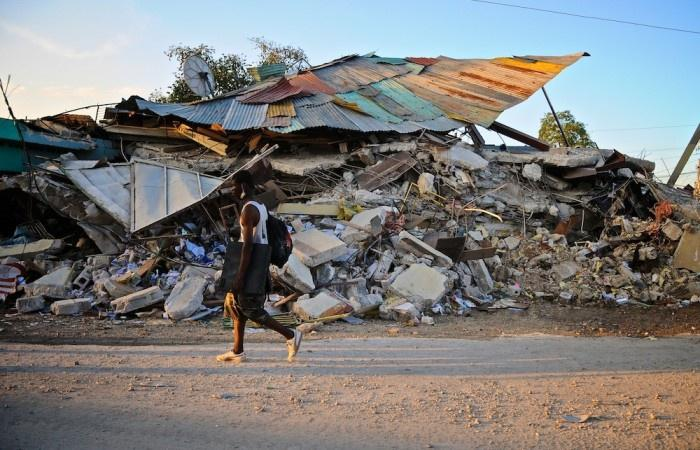victim: (210, 169, 304, 368)
